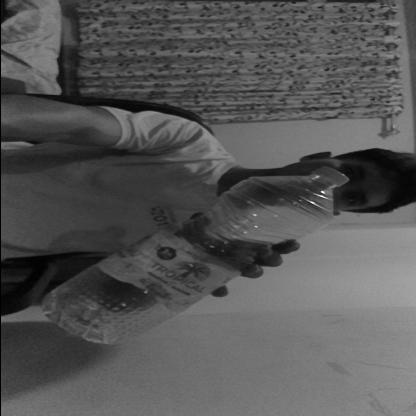plastic_bottles: (32, 162, 348, 346)
